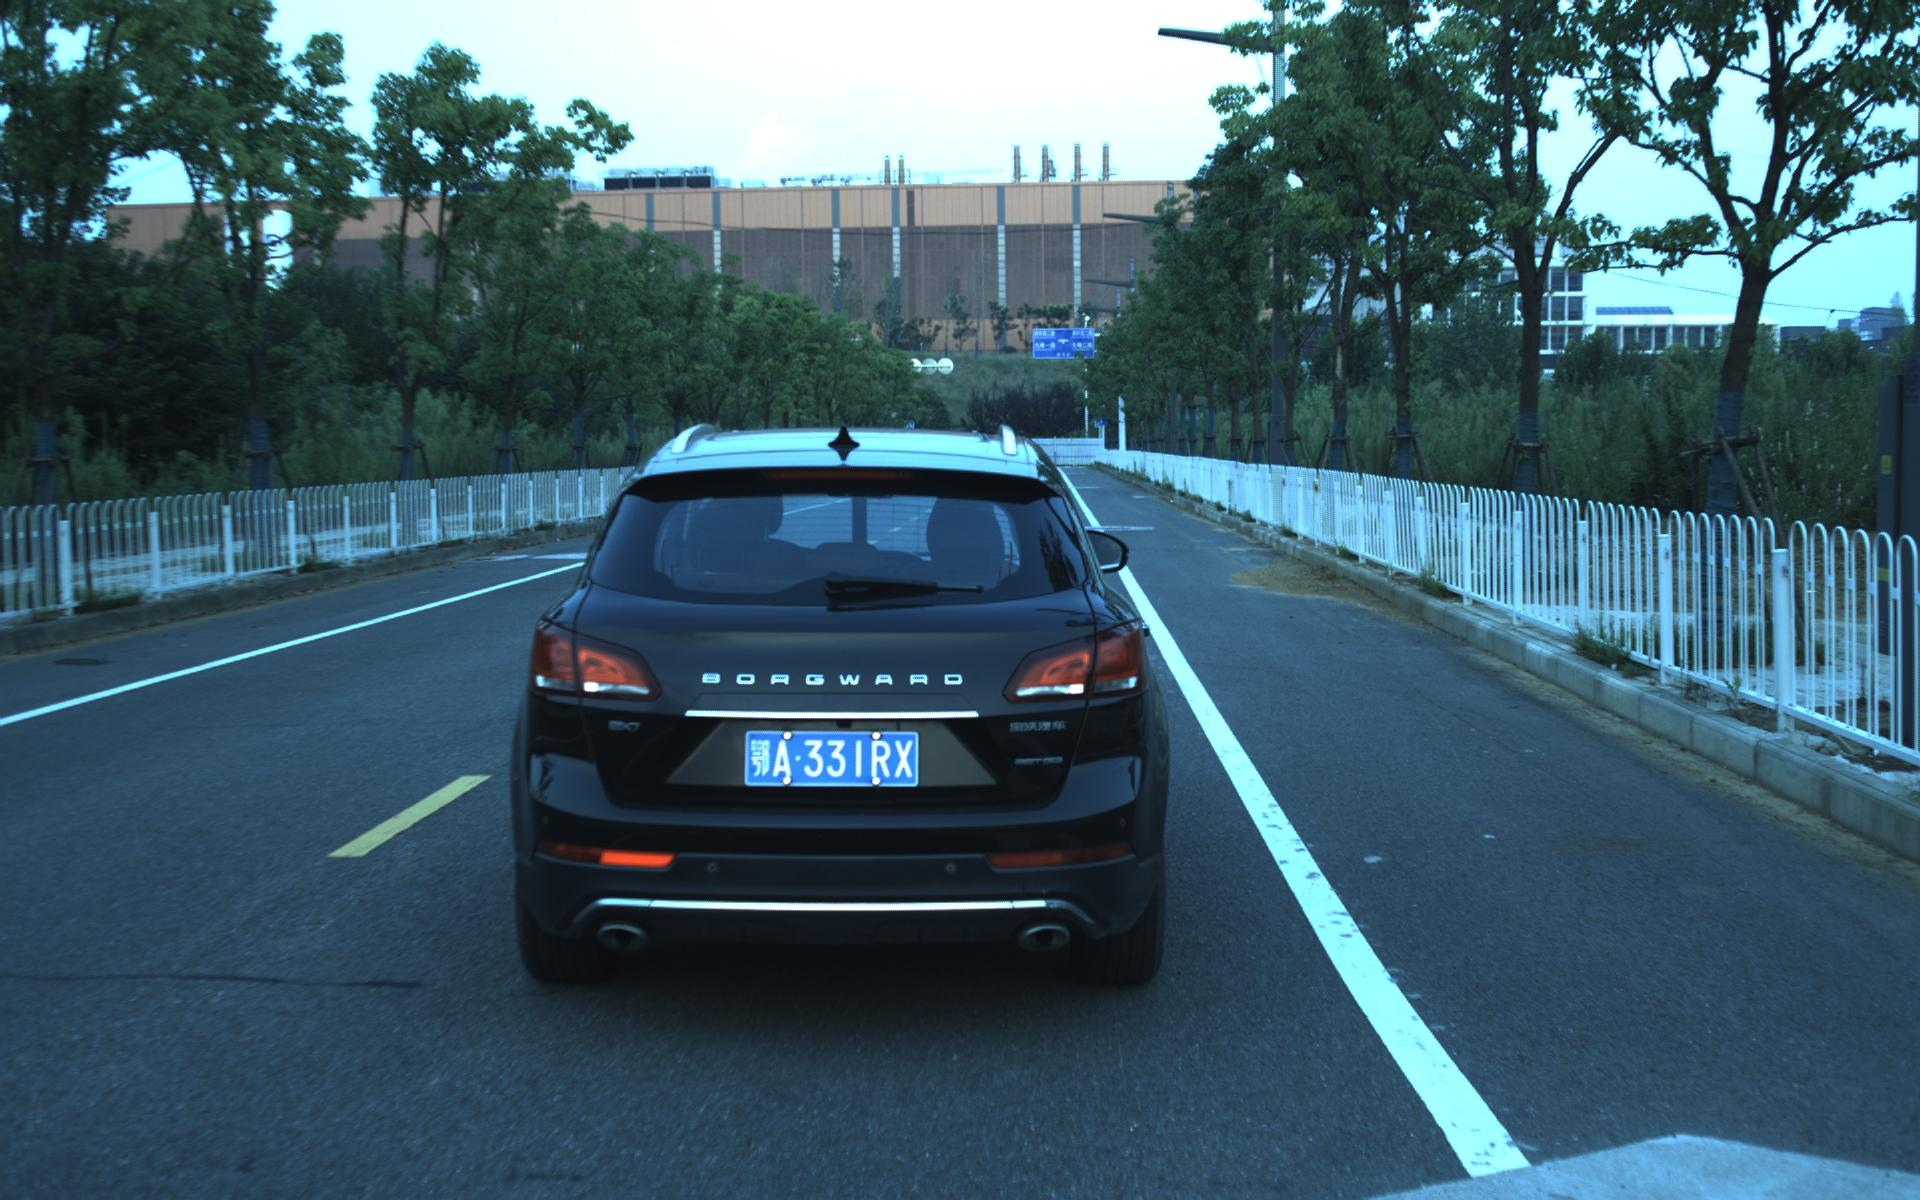Car: (503, 390, 1179, 987)
